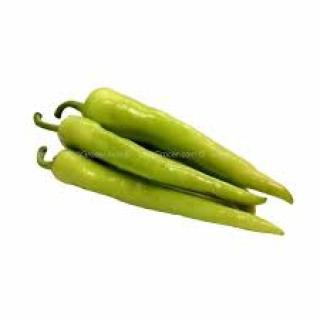Cabai Hijau: (70, 82, 289, 200)
